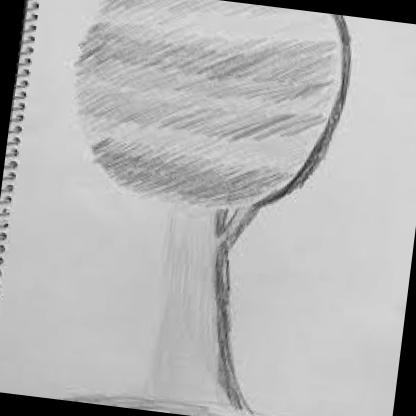crown_mushroom: (59, 0, 354, 219)
trunk_straight: (145, 245, 251, 382)
